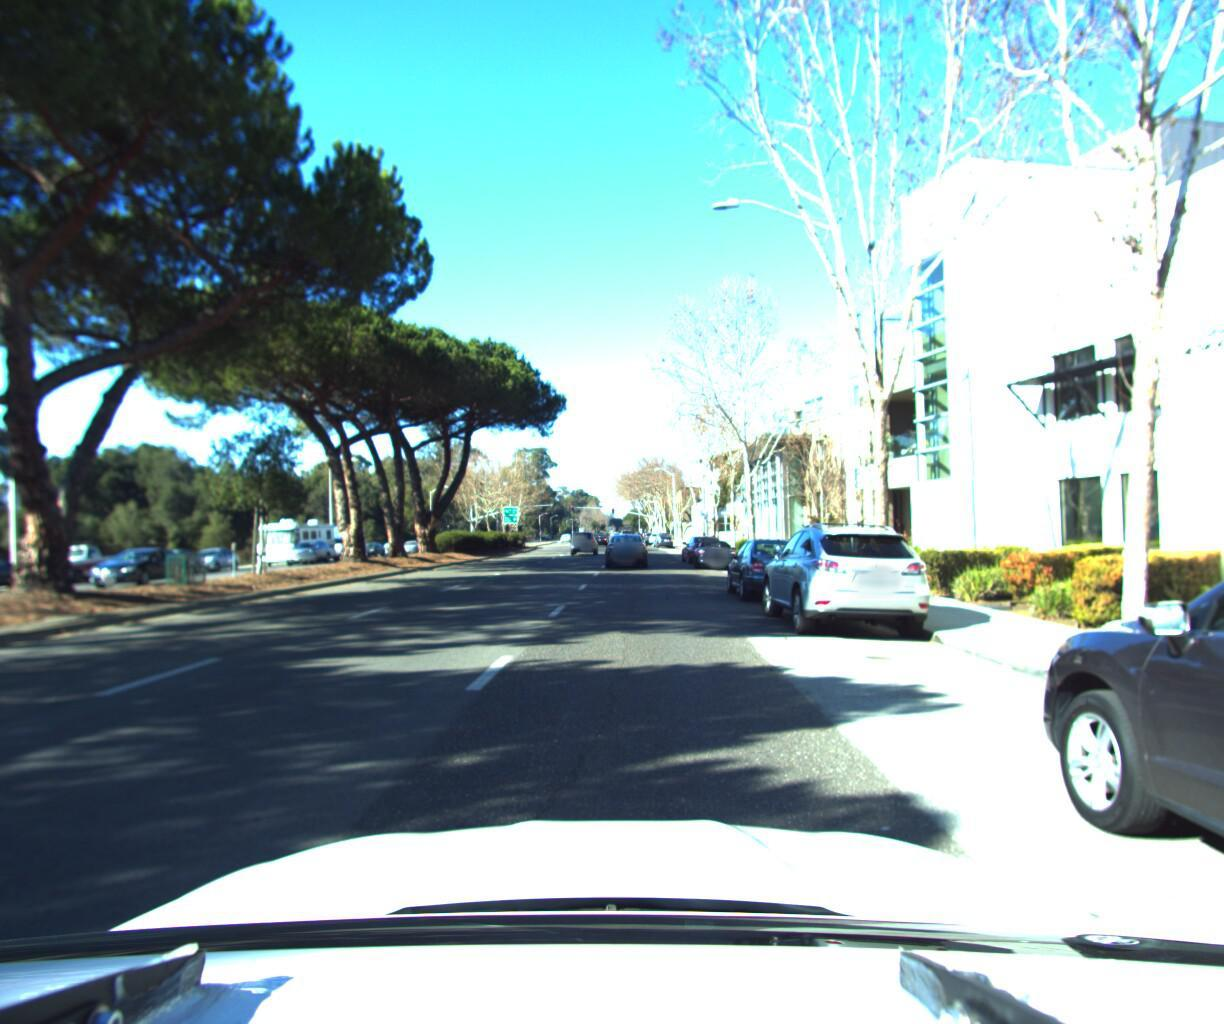car: (993, 278, 1224, 1024), (753, 513, 947, 649), (723, 532, 834, 610), (20, 539, 144, 592), (86, 541, 197, 590), (0, 551, 39, 603), (181, 546, 247, 576), (600, 527, 648, 565), (683, 532, 728, 568), (694, 536, 738, 570), (283, 541, 333, 568), (569, 527, 598, 553), (656, 531, 675, 547)
other_vehicle: (250, 513, 343, 566), (313, 525, 371, 566)
